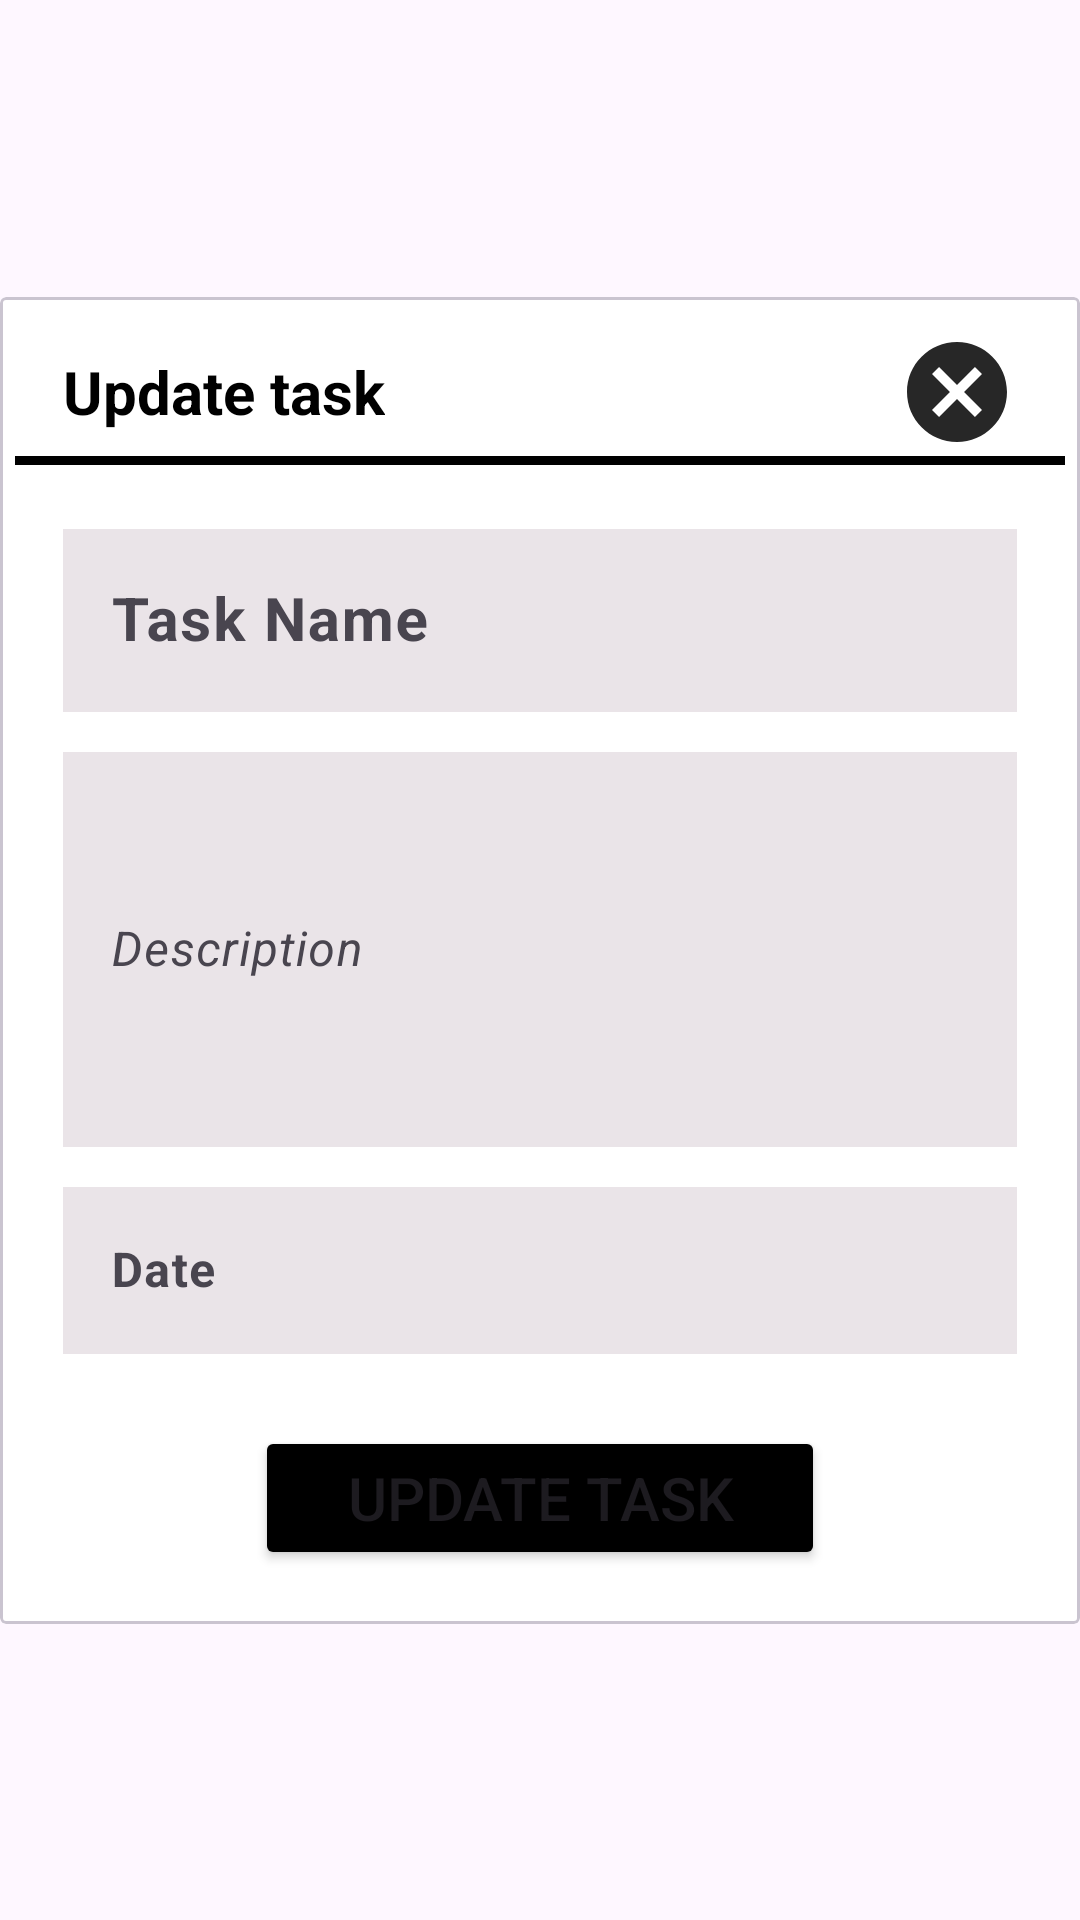

Icons on this 1080w x 1920h Android screen, each with its box as Rect(x1, y1, x2, y2):
cancel: Rect(907, 342, 1007, 442)
